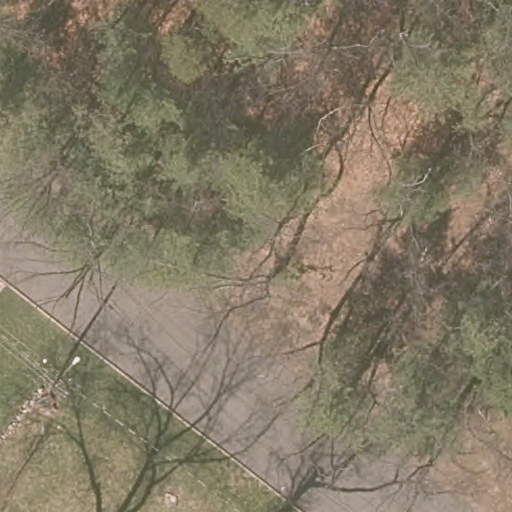DT: (36, 355, 80, 400)
